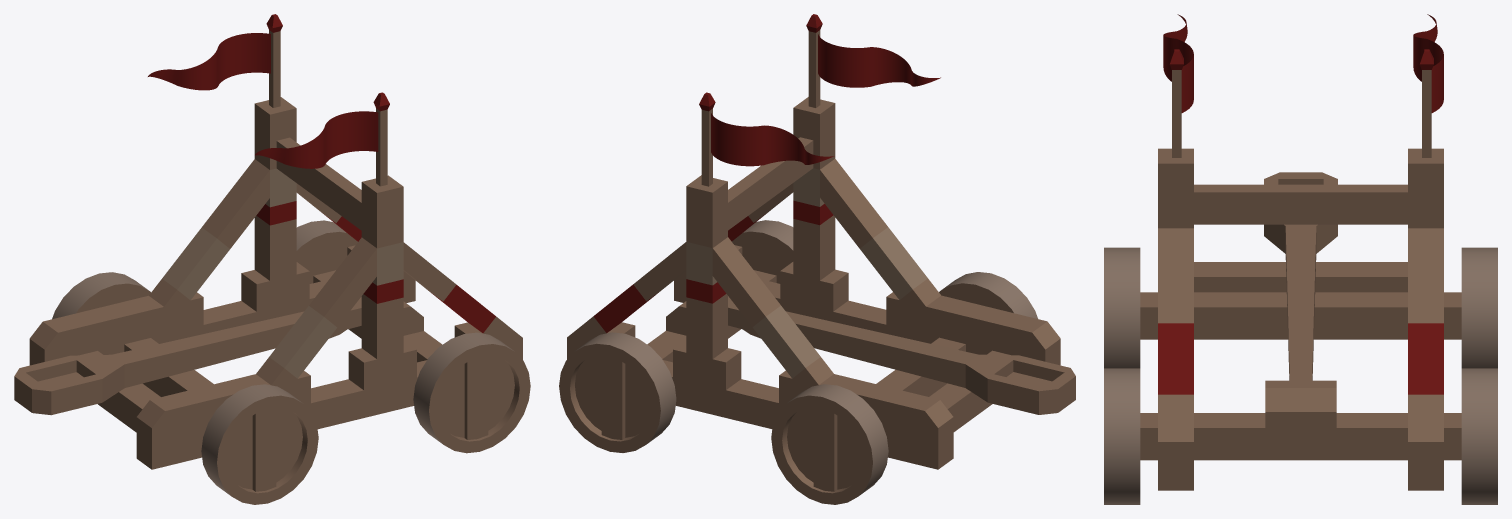
Rendered from cs_catapult.glb.
3 views of the same model, side by side, from view 1: azimuth 30°, elevation 25°; view 2: azimuth 150°, elevation 25°; view 3: azimuth 270°, elevation 25° (orthographic). The views are drawn at different scales.
Parts seen in each view (by area): view 1: cs_catapult2; view 2: cs_catapult2; view 3: cs_catapult2.
Boxes of the visible parts, x1,y1,x2,y2 form: cs_catapult2: (14, 14, 530, 504); cs_catapult2: (559, 14, 1075, 504); cs_catapult2: (1104, 14, 1497, 504).
Bounding box in the file's own units: 3.91 × 3 × 2.61.
